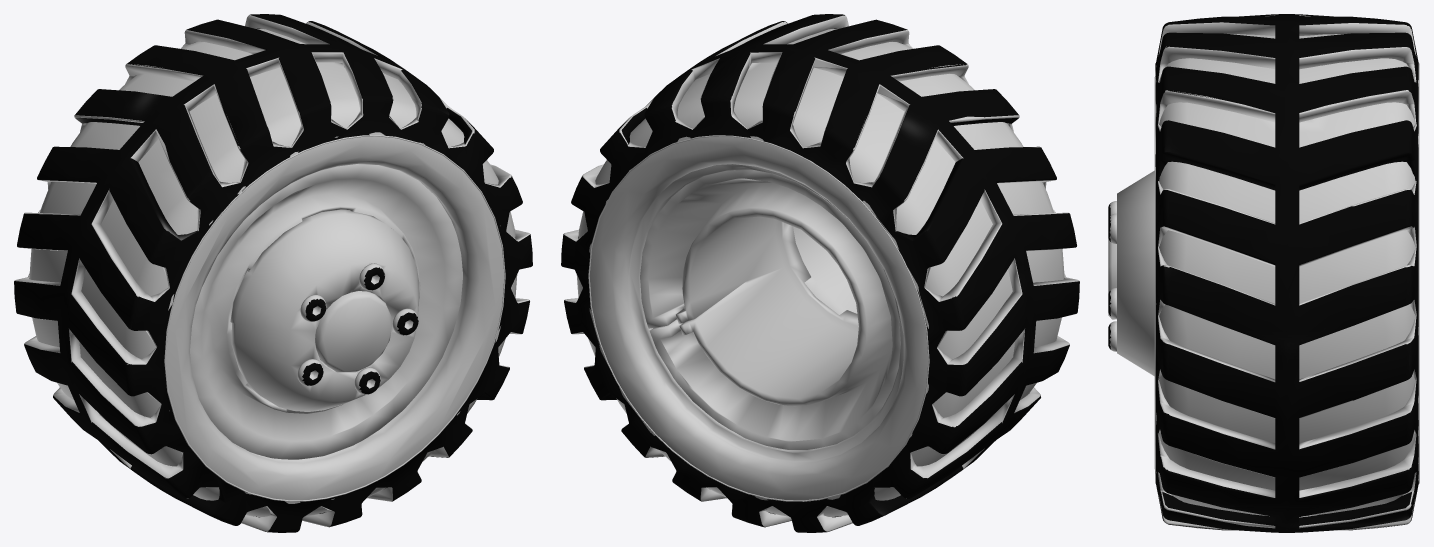
Rendered from WheelB_v2.dae.
The picture shows the model from 3 angles, left to right: view 1: azimuth 30°, elevation 25°; view 2: azimuth 150°, elevation 25°; view 3: azimuth 270°, elevation 25°; orthographic projection. The views are drawn at different scales.
Visible parts, largest first — view 1: simple_wheel_b; view 2: simple_wheel_b; view 3: simple_wheel_b.
Part boxes in pixels (x1,y1,x2,y2): simple_wheel_b: [14, 14, 532, 532]; simple_wheel_b: [561, 14, 1079, 532]; simple_wheel_b: [1108, 14, 1419, 532].
Bounding box in the file's own units: 0.13 × 0.078 × 0.1299.
1 material, 1 textured.
